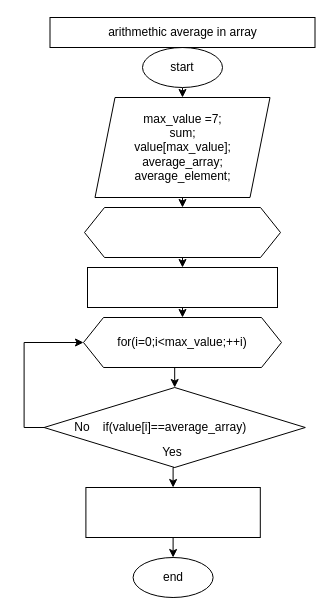
The diagram is 333 pixels wide and 615 high, and some of its shapes have lost their labels. Here are the shapes that lost their labels. From the top down, the centre of each, then its label:
At point 182,232: "for(i=0;i<max_value;++i) sum=sum+value[i];".
At point 182,287: "average_array=sum/max_value;".
At point 172,512: "average_element=value[i]; printf avrage_element;".
